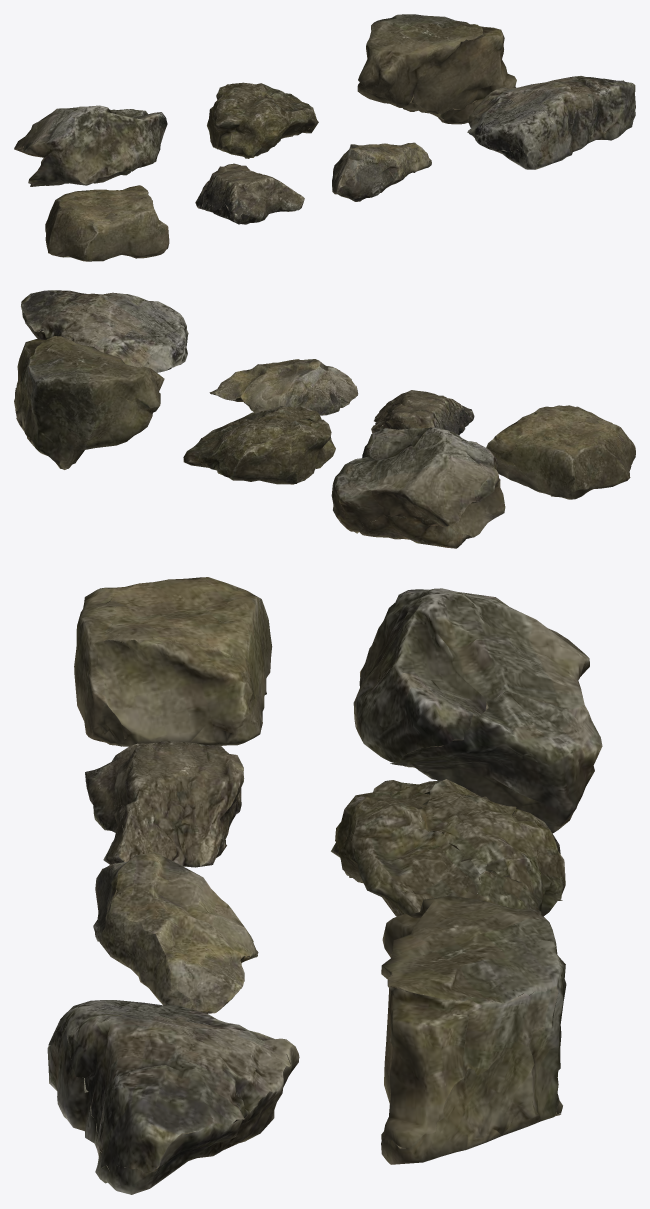
The model's file is rock_moss_set_02.glb.
3 views of the same model, one above another, from view 1: azimuth 30°, elevation 25°; view 2: azimuth 150°, elevation 25°; view 3: azimuth 270°, elevation 25° (orthographic). The views are drawn at different scales.
Parts seen in each view (by area): view 1: rock_moss_set_02_rock13, rock_moss_set_02_rock10, rock_moss_set_02_rock11, rock_moss_set_02_rock07, rock_moss_set_02_rock12, rock_moss_set_02_rock08, rock_moss_set_02_rock09; view 2: rock_moss_set_02_rock11, rock_moss_set_02_rock13, rock_moss_set_02_rock07, rock_moss_set_02_rock10, rock_moss_set_02_rock12, rock_moss_set_02_rock09, rock_moss_set_02_rock08; view 3: rock_moss_set_02_rock13, rock_moss_set_02_rock11, rock_moss_set_02_rock10, rock_moss_set_02_rock07, rock_moss_set_02_rock12, rock_moss_set_02_rock09, rock_moss_set_02_rock08.
Boxes of the visible parts, left/top/right/bottom form: rock_moss_set_02_rock13: left=357, top=14, right=516, bottom=124; rock_moss_set_02_rock10: left=467, top=76, right=635, bottom=169; rock_moss_set_02_rock11: left=14, top=105, right=167, bottom=186; rock_moss_set_02_rock07: left=45, top=185, right=169, bottom=261; rock_moss_set_02_rock12: left=207, top=82, right=318, bottom=158; rock_moss_set_02_rock08: left=195, top=163, right=304, bottom=224; rock_moss_set_02_rock09: left=332, top=142, right=431, bottom=201; rock_moss_set_02_rock11: left=331, top=427, right=505, bottom=548; rock_moss_set_02_rock13: left=14, top=336, right=164, bottom=469; rock_moss_set_02_rock07: left=486, top=405, right=635, bottom=499; rock_moss_set_02_rock10: left=21, top=290, right=188, bottom=372; rock_moss_set_02_rock12: left=183, top=406, right=335, bottom=484; rock_moss_set_02_rock09: left=209, top=359, right=358, bottom=415; rock_moss_set_02_rock08: left=371, top=390, right=474, bottom=435; rock_moss_set_02_rock13: left=381, top=896, right=566, bottom=1164; rock_moss_set_02_rock11: left=353, top=588, right=602, bottom=833; rock_moss_set_02_rock10: left=47, top=1000, right=299, bottom=1194; rock_moss_set_02_rock07: left=74, top=577, right=272, bottom=746; rock_moss_set_02_rock12: left=331, top=779, right=565, bottom=916; rock_moss_set_02_rock09: left=93, top=852, right=258, bottom=1013; rock_moss_set_02_rock08: left=85, top=741, right=244, bottom=867.
Size of the model in its own units: 8.28 by 1.36 by 3.41.
1 material, 1 textured.
